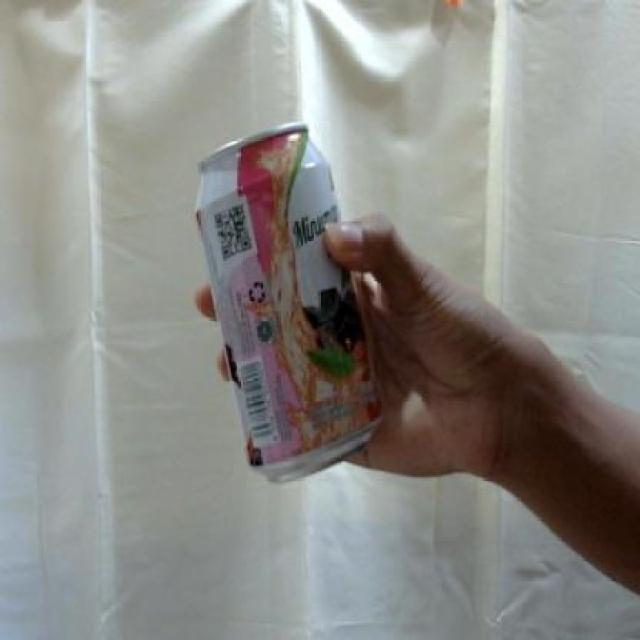Metal: (193, 121, 387, 483)
